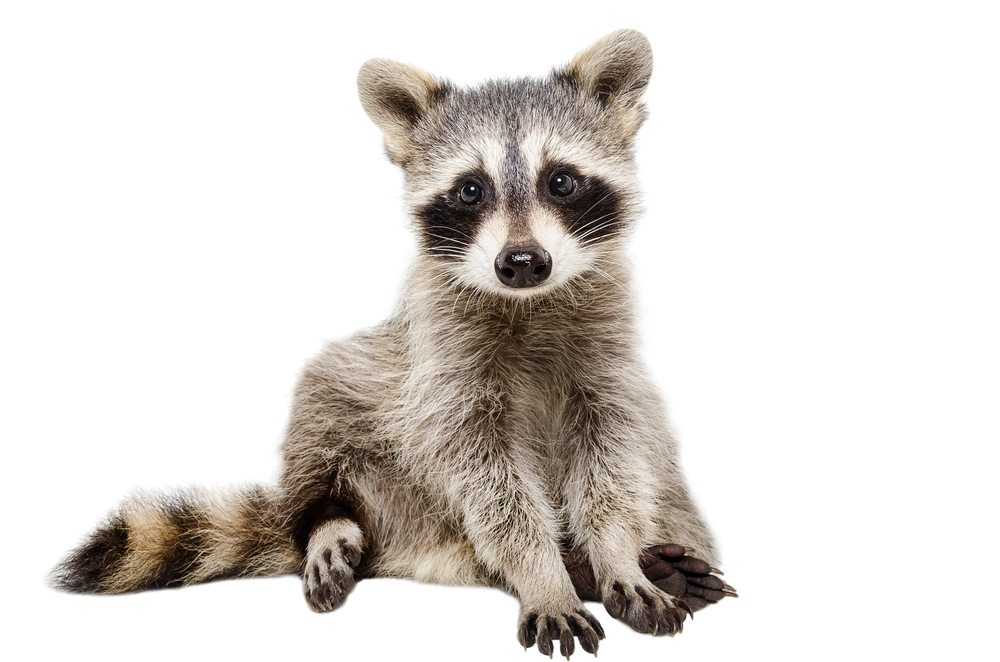raccoon: (63, 18, 746, 662)
